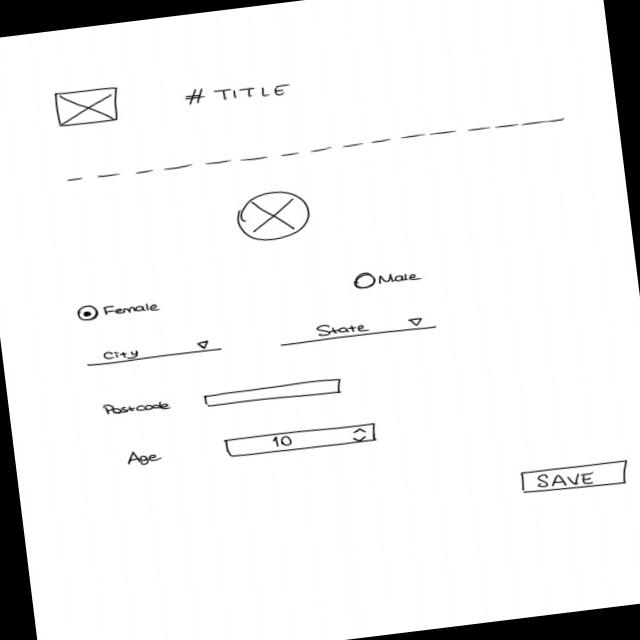button: (518, 458, 634, 499)
image: (233, 187, 315, 246), (52, 84, 123, 130)
input: (203, 377, 346, 413)
label: (182, 76, 296, 110), (102, 394, 174, 419), (123, 447, 166, 470)
number-input: (222, 420, 381, 462)
radio: (73, 295, 164, 326), (352, 265, 430, 292)
select: (277, 311, 439, 349), (85, 335, 226, 369)
